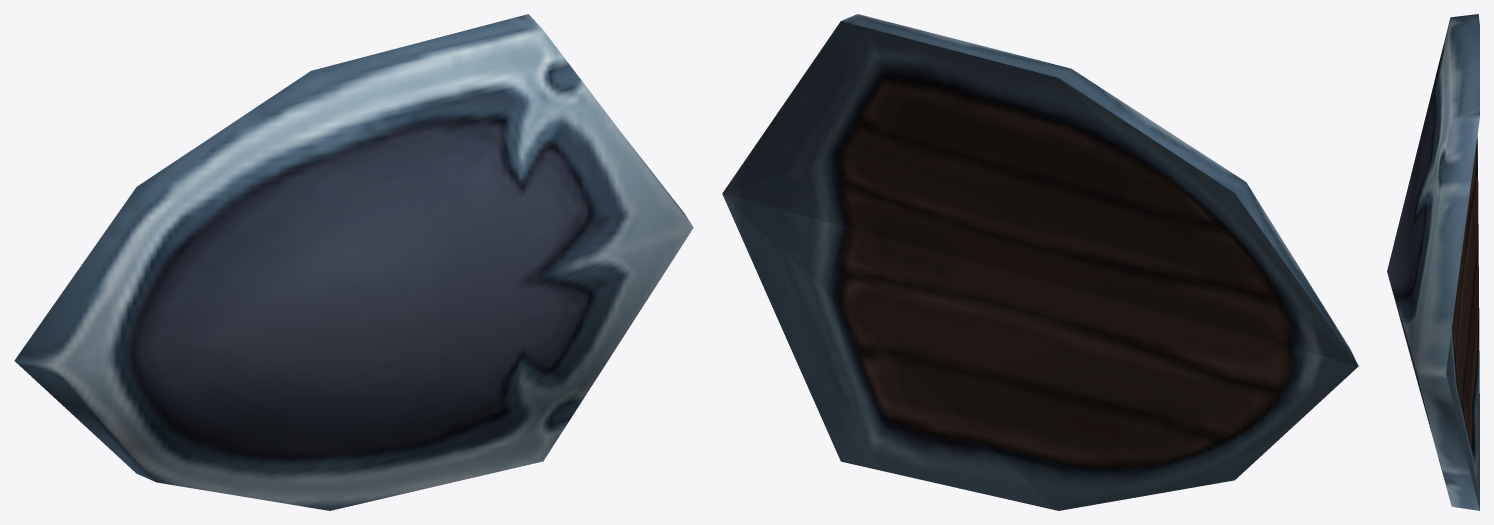
The model's file is ELF_Shield_A.FBX.
The picture shows the model from 3 angles, left to right: view 1: azimuth 30°, elevation 25°; view 2: azimuth 150°, elevation 25°; view 3: azimuth 270°, elevation 25°; orthographic projection. The views are drawn at different scales.
Parts seen in each view (by area): view 1: ELF_Shield_A; view 2: ELF_Shield_A; view 3: ELF_Shield_A.
Boxes of the visible parts, left/top/right/bottom form: ELF_Shield_A: left=14, top=14, right=693, bottom=510; ELF_Shield_A: left=722, top=14, right=1358, bottom=510; ELF_Shield_A: left=1387, top=14, right=1479, bottom=510.
Size of the model in its own units: 31.17 by 20.06 by 4.29.
